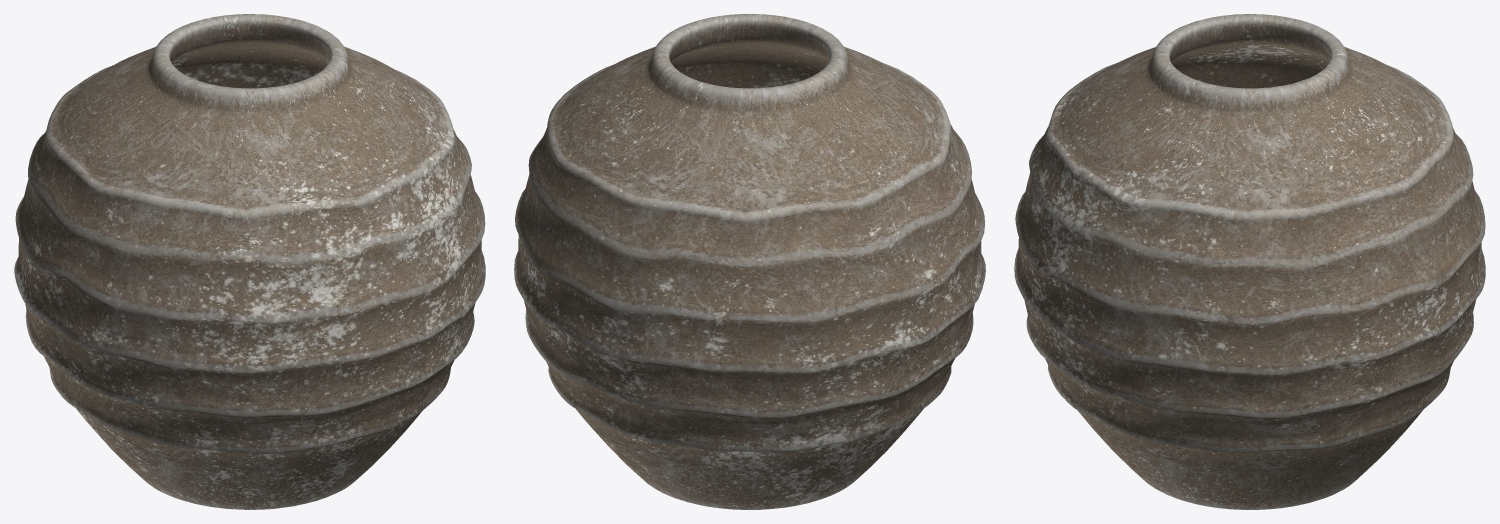
Rendered from 老罐子3.fbx.
The picture shows the model from 3 angles, left to right: view 1: azimuth 30°, elevation 25°; view 2: azimuth 150°, elevation 25°; view 3: azimuth 270°, elevation 25°; orthographic projection.
Visible parts, largest first — view 1: 3d66-Editable_Poly-32443966-021; view 2: 3d66-Editable_Poly-32443966-021; view 3: 3d66-Editable_Poly-32443966-021.
Boxes of the visible parts, x1,y1,x2,y2 form: 3d66-Editable_Poly-32443966-021: (14, 14, 485, 509); 3d66-Editable_Poly-32443966-021: (514, 14, 985, 509); 3d66-Editable_Poly-32443966-021: (1014, 14, 1485, 509).
Size of the model in its own units: 148 by 143 by 148.
Materials: 1 (1 with a texture image).
